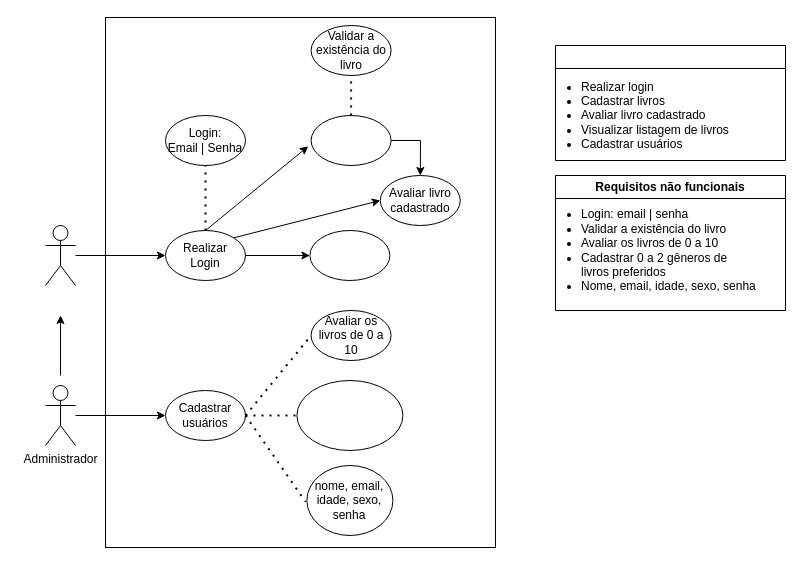
This 803x565 diagram has some shape labels left out. The shapes that lost their labels are listed below. From the top down, each one's box as (x1, y1, x2, y2) in pixels, then its label:
(554, 44, 786, 160): Requisitos funcionais
(310, 114, 391, 166): Cadastrar livros
(44, 224, 76, 286): Usuário Comum
(309, 230, 390, 280): Visualizar listagem de livros
(296, 380, 403, 450): Cadastrar 0 a 2 gêneros de livros preferidos
